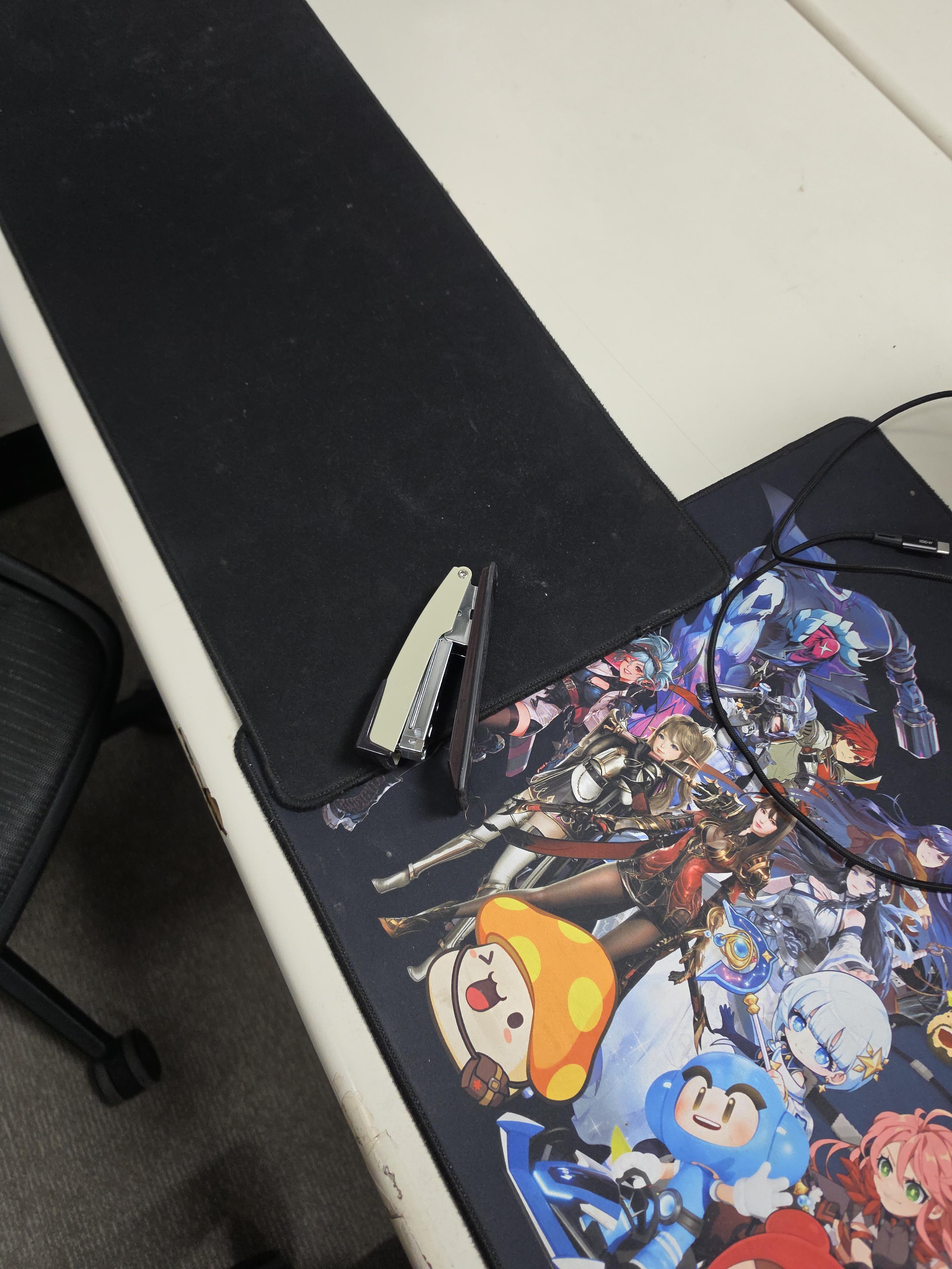stapler: (356, 562, 498, 809)
